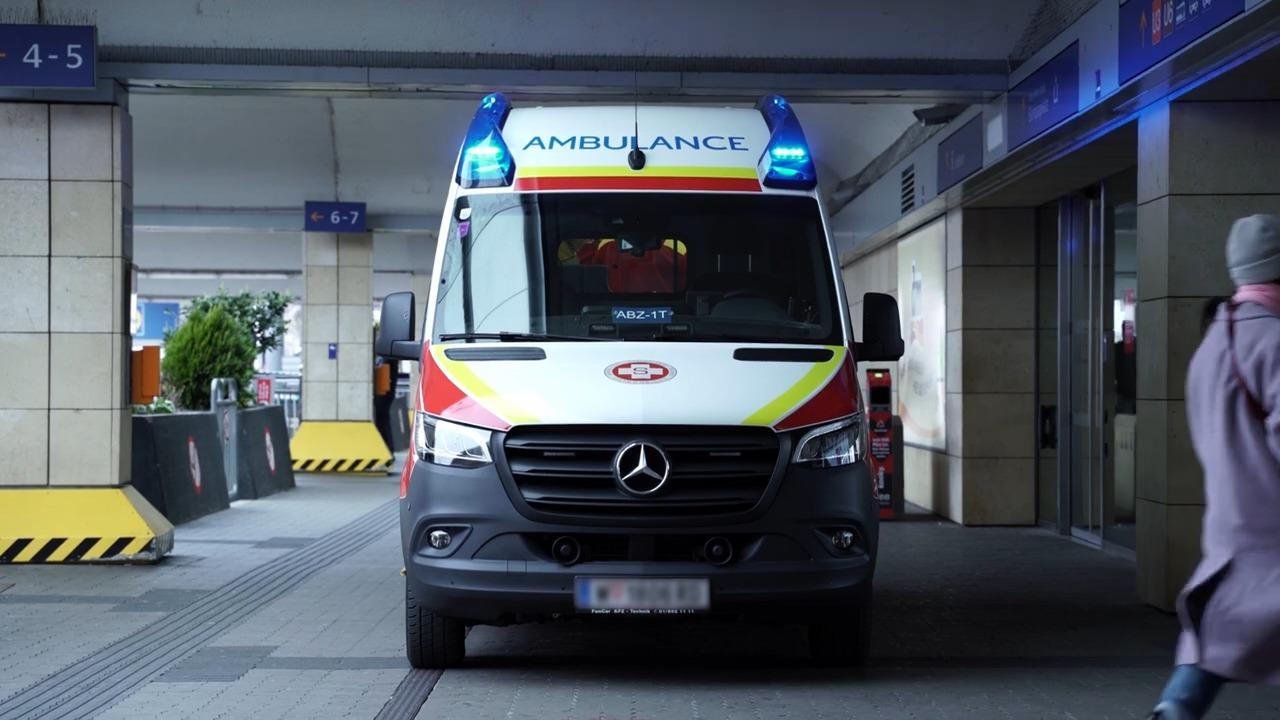car: (383, 89, 899, 671)
